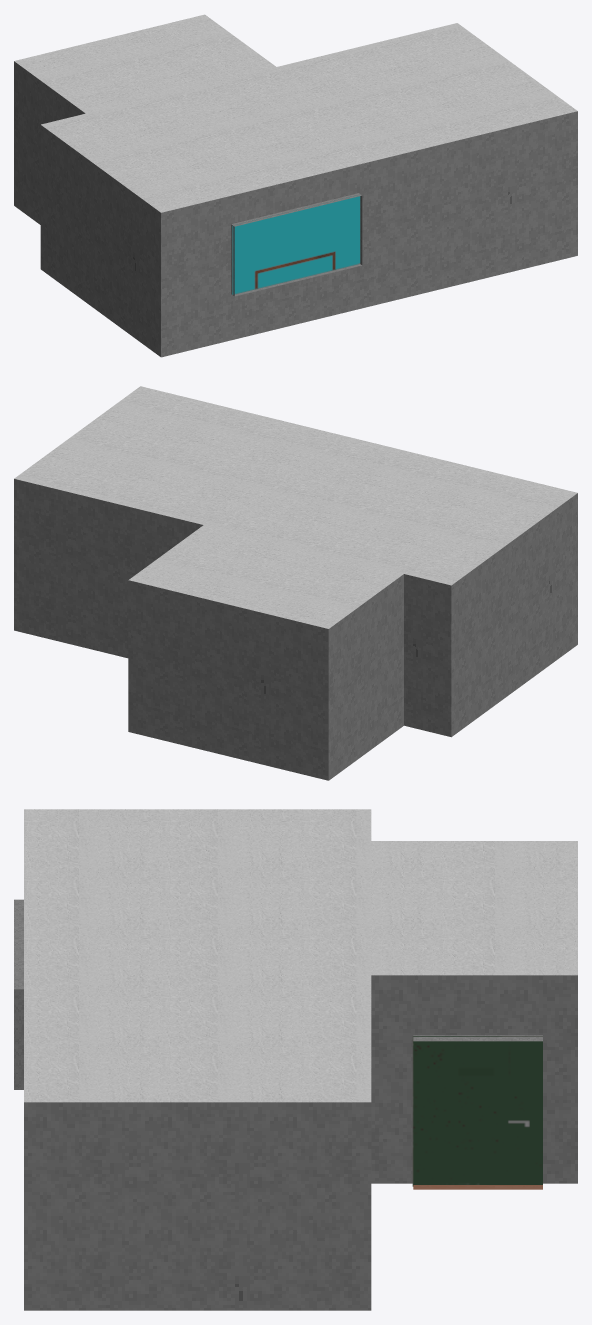
Rendered from zebrabase-kpp.glb.
3 views of the same model, one above another, from view 1: azimuth 30°, elevation 25°; view 2: azimuth 150°, elevation 25°; view 3: azimuth 270°, elevation 25° (orthographic). The views are drawn at different scales.
Visible parts, largest first — view 1: inside, Box001.001; view 2: inside; view 3: inside, Box001.001.
Boxes of the visible parts, left/top/right/bottom form: inside: left=14, top=14, right=577, bottom=357; Box001.001: left=232, top=195, right=360, bottom=294; inside: left=14, top=386, right=577, bottom=780; inside: left=14, top=809, right=577, bottom=1310; Box001.001: left=412, top=1036, right=542, bottom=1186.
Size of what is drawn, in the model's own units: 2.02 by 0.674 by 1.64.
4 materials, 4 textured.
